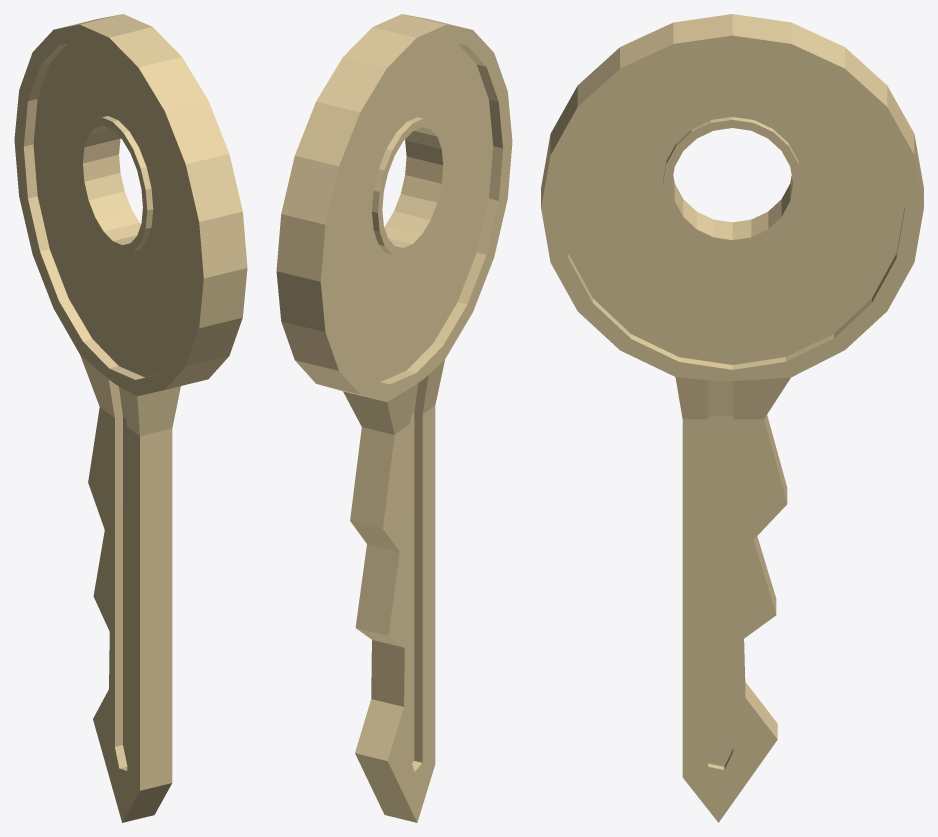
The model's file is key new.fbx.
The picture shows the model from 3 angles, left to right: view 1: azimuth 30°, elevation 25°; view 2: azimuth 150°, elevation 25°; view 3: azimuth 270°, elevation 25°; orthographic projection.
Visible parts, largest first — view 1: key_model; view 2: key_model; view 3: key_model.
Boxes of the visible parts, left/top/right/bottom form: key_model: left=14, top=14, right=247, bottom=822; key_model: left=276, top=14, right=512, bottom=822; key_model: left=541, top=14, right=923, bottom=822.
Size of the model in its own units: 0.0249 by 0.4258 by 0.187.
